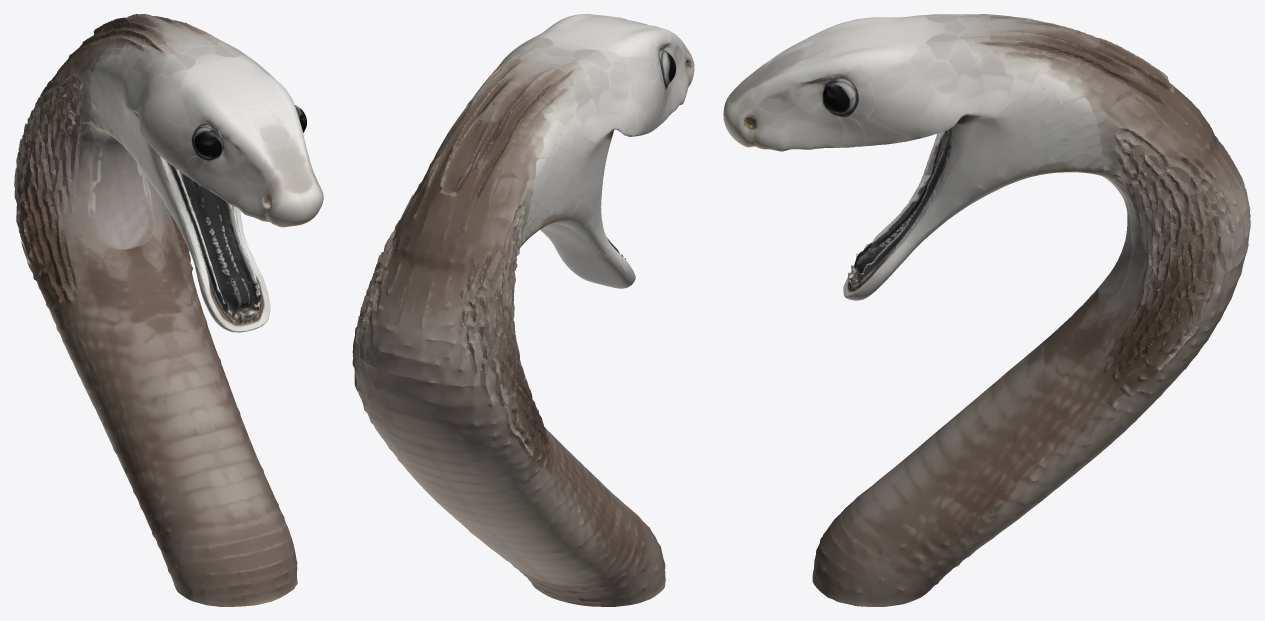
The model's file is black-mamba.glb.
The picture shows the model from 3 angles, left to right: view 1: azimuth 30°, elevation 25°; view 2: azimuth 150°, elevation 25°; view 3: azimuth 270°, elevation 25°; orthographic projection. The views are drawn at different scales.
Visible parts, largest first — view 1: model_0; view 2: model_0; view 3: model_0.
Boxes of the visible parts, left/top/right/bottom form: model_0: left=14, top=14, right=323, bottom=606; model_0: left=352, top=14, right=694, bottom=606; model_0: left=723, top=14, right=1250, bottom=606.
Size of the model in its own units: 0.5895 by 1.9 by 1.64.
1 material, 1 textured.
